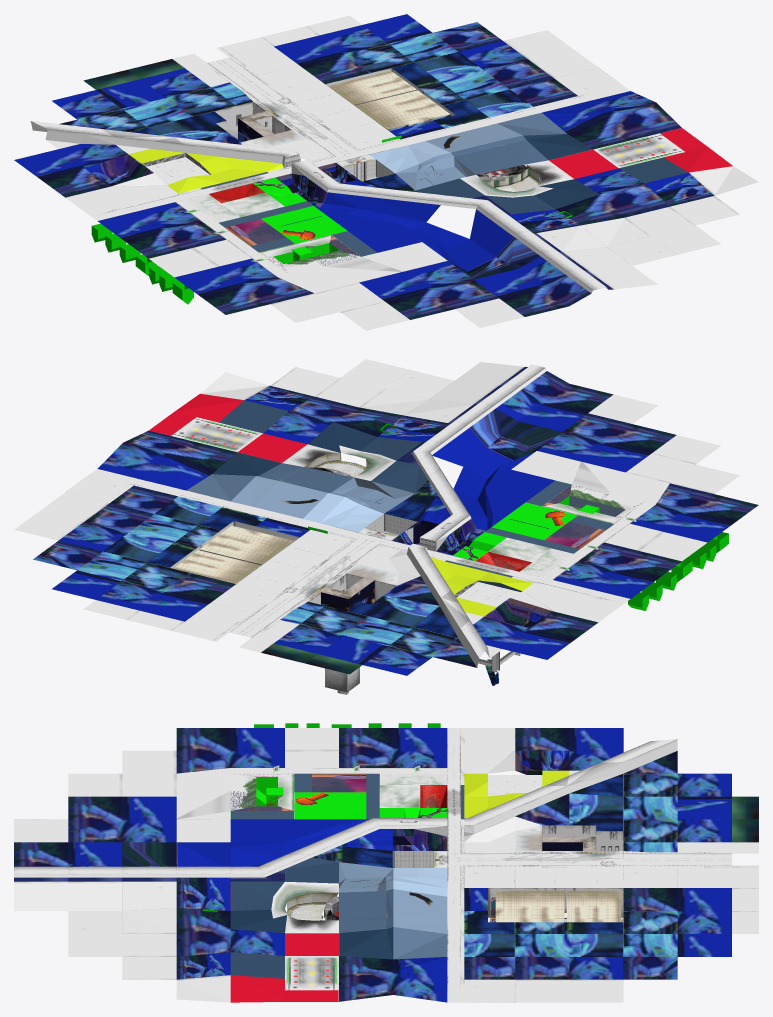
3 views of the same model, one above another, from view 1: azimuth 30°, elevation 25°; view 2: azimuth 150°, elevation 25°; view 3: azimuth 270°, elevation 25° (orthographic). The views are drawn at different scales.
Parts seen in each view (by area): view 1: Geom0Shape172_face02, Geom0Shape170_face00, Geom0Shape183_face00, Geom0Shape187_face00, Geom0Shape171_face02, Geom0Shape188_face00, Geom0Shape190_face01, Geom0Shape170_face02, Geom0Shape191_face01, Geom0Shape176_face00, Geom0Shape193_face00, Geom0Shape174_face00 (+65 smaller); view 2: Geom0Shape172_face02, Geom0Shape170_face00, Geom0Shape183_face00, Geom0Shape171_face02, Geom0Shape187_face00, Geom0Shape188_face00, Geom0Shape190_face01, Geom0Shape170_face02, Geom0Shape191_face01, Geom0Shape175_face01, Geom0Shape176_face00, Geom0Shape177_face00 (+73 smaller); view 3: Geom0Shape170_face00, Geom0Shape183_face00, Geom0Shape171_face02, Geom0Shape187_face00, Geom0Shape190_face01, Geom0Shape188_face00, Geom0Shape172_face02, Geom0Shape170_face02, Geom0Shape191_face01, Geom0Shape174_face00, Geom0Shape176_face00, Geom0Shape193_face00 (+75 smaller).
Part boxes in pixels (x1,y1,x2,y2): Geom0Shape172_face02: [404, 256, 591, 316]; Geom0Shape170_face00: [270, 257, 409, 330]; Geom0Shape183_face00: [83, 59, 235, 127]; Geom0Shape187_face00: [267, 84, 423, 161]; Geom0Shape171_face02: [119, 202, 277, 295]; Geom0Shape188_face00: [172, 26, 324, 100]; Geom0Shape190_face01: [392, 51, 511, 128]; Geom0Shape170_face02: [200, 271, 454, 319]; Geom0Shape191_face01: [318, 14, 457, 73]; Geom0Shape176_face00: [626, 196, 739, 254]; Geom0Shape193_face00: [503, 30, 623, 107]; Geom0Shape174_face00: [563, 236, 676, 289]; Geom0Shape172_face02: [496, 371, 631, 461]; Geom0Shape170_face00: [572, 435, 739, 501]; Geom0Shape183_face00: [261, 606, 413, 674]; Geom0Shape171_face02: [553, 505, 732, 593]; Geom0Shape187_face00: [236, 522, 401, 597]; Geom0Shape188_face00: [128, 584, 305, 652]; Geom0Shape190_face01: [103, 502, 266, 567]; Geom0Shape170_face02: [581, 424, 758, 523]; Geom0Shape191_face01: [52, 551, 191, 610]; Geom0Shape175_face01: [231, 467, 353, 522]; Geom0Shape176_face00: [270, 359, 409, 407]; Geom0Shape177_face00: [119, 411, 332, 479]; Geom0Shape170_face00: [68, 750, 230, 819]; Geom0Shape183_face00: [623, 796, 758, 842]; Geom0Shape171_face02: [230, 728, 447, 767]; Geom0Shape187_face00: [461, 842, 623, 899]; Geom0Shape190_face01: [464, 911, 623, 956]; Geom0Shape188_face00: [623, 842, 758, 910]; Geom0Shape172_face02: [14, 819, 176, 866]; Geom0Shape170_face02: [68, 728, 230, 819]; Geom0Shape191_face01: [623, 911, 731, 956]; Geom0Shape174_face00: [14, 881, 122, 933]; Geom0Shape176_face00: [68, 934, 176, 979]; Geom0Shape193_face00: [461, 957, 623, 1002].
Size of what is drawn, in the model's own units: 10141 by 2044 by 11428.
